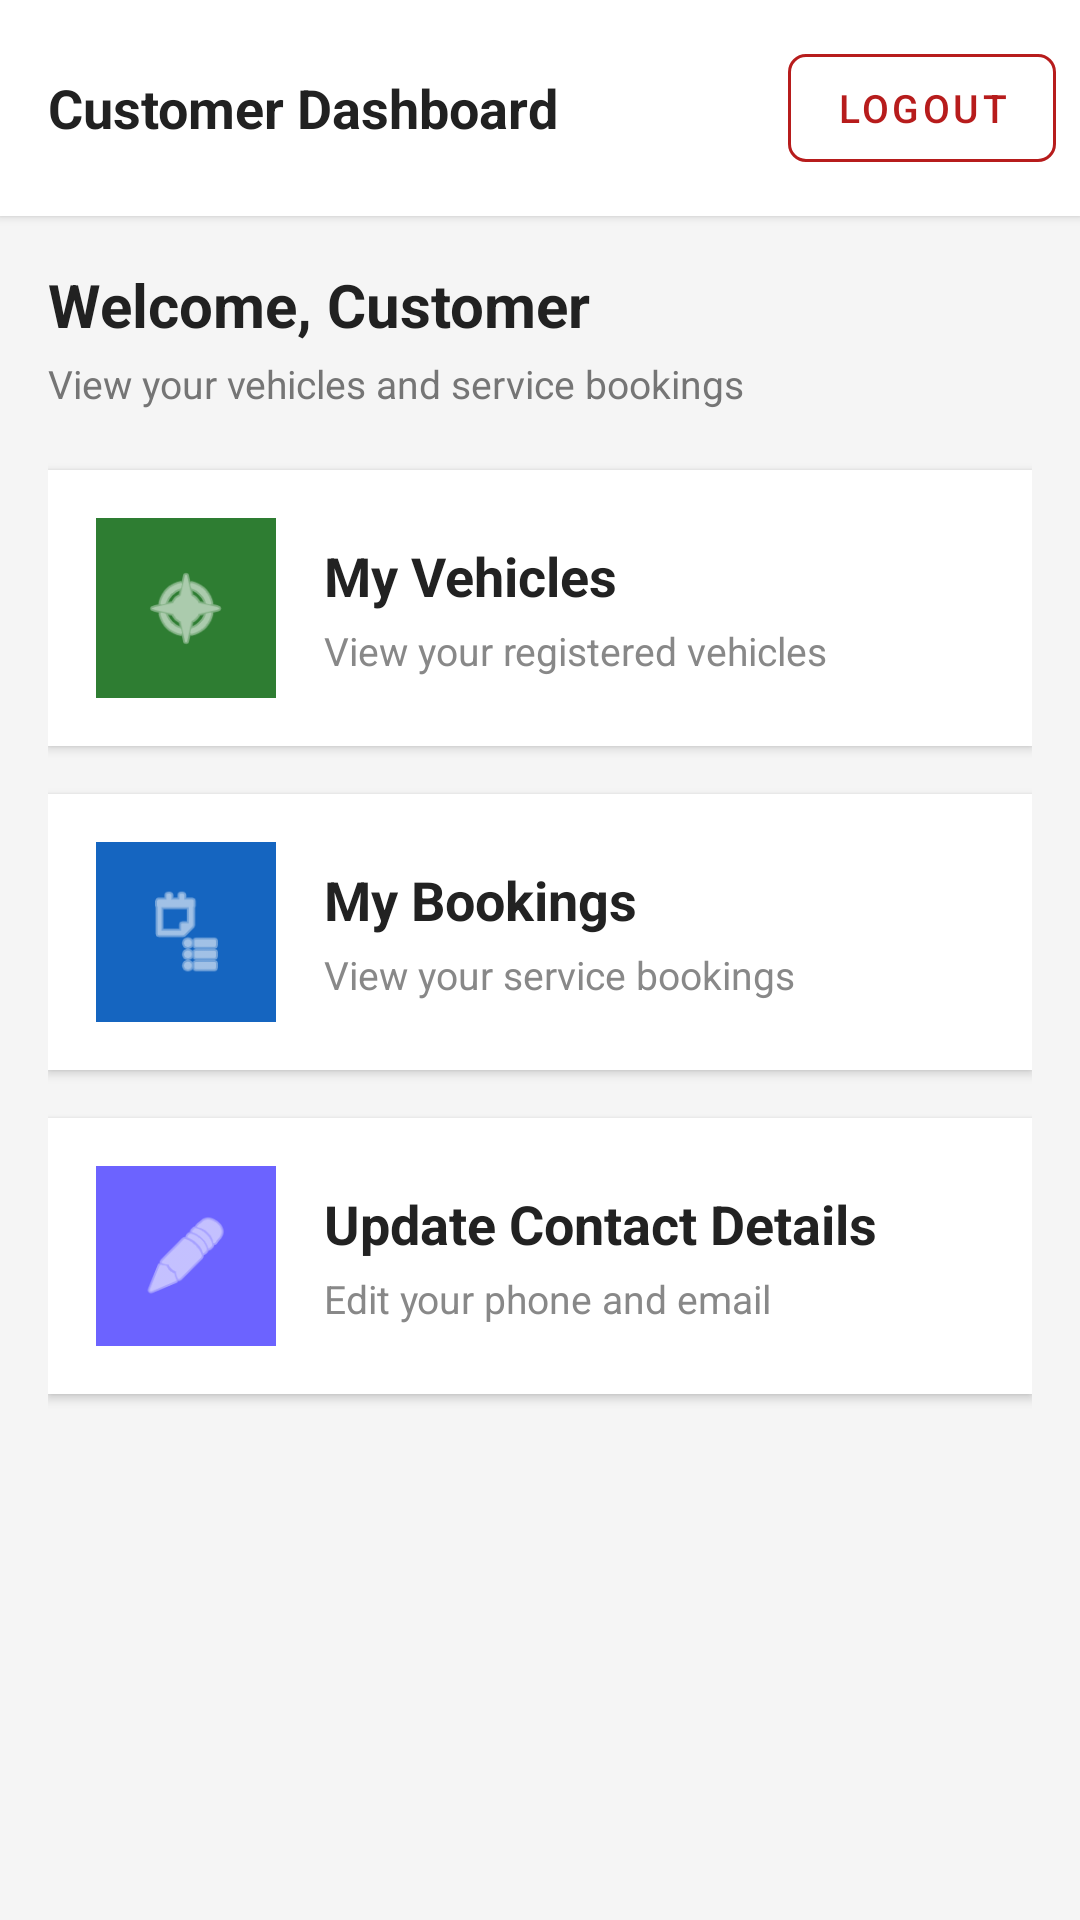

Icon click points for this 1080*1920 phone screenshot, format (x,y):
agenda: (186,931)
compass: (185,608)
